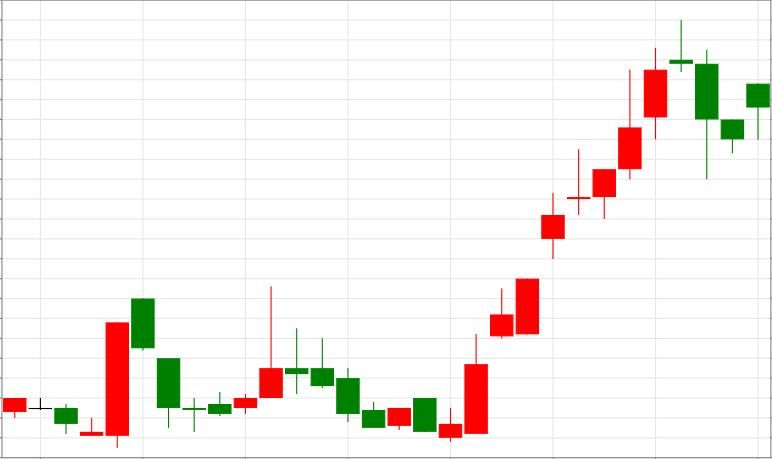evening_star_fall: (440, 21, 718, 441)
